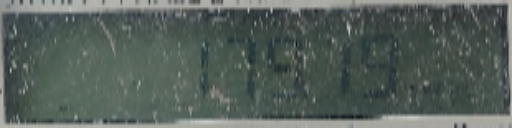1: (194, 34, 220, 108), (338, 34, 357, 101)
7: (220, 31, 258, 108)
9: (355, 29, 401, 108), (262, 33, 306, 102)
d: (308, 89, 328, 104)
